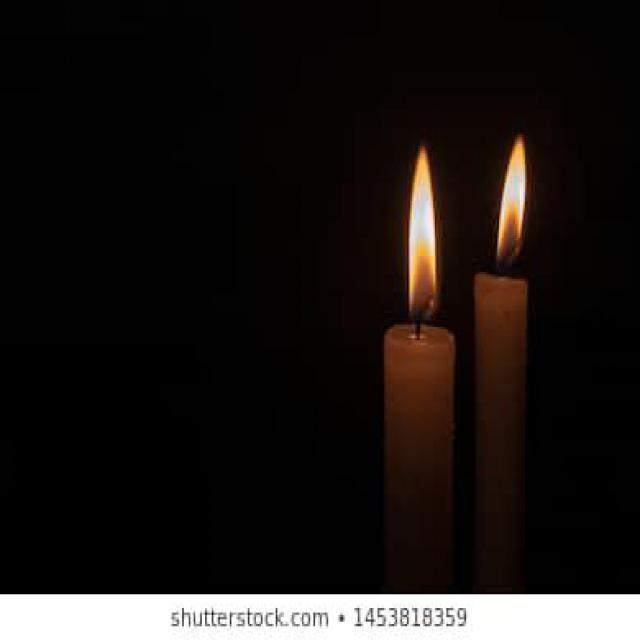Fire: (408, 150, 438, 328), (497, 135, 528, 272)
